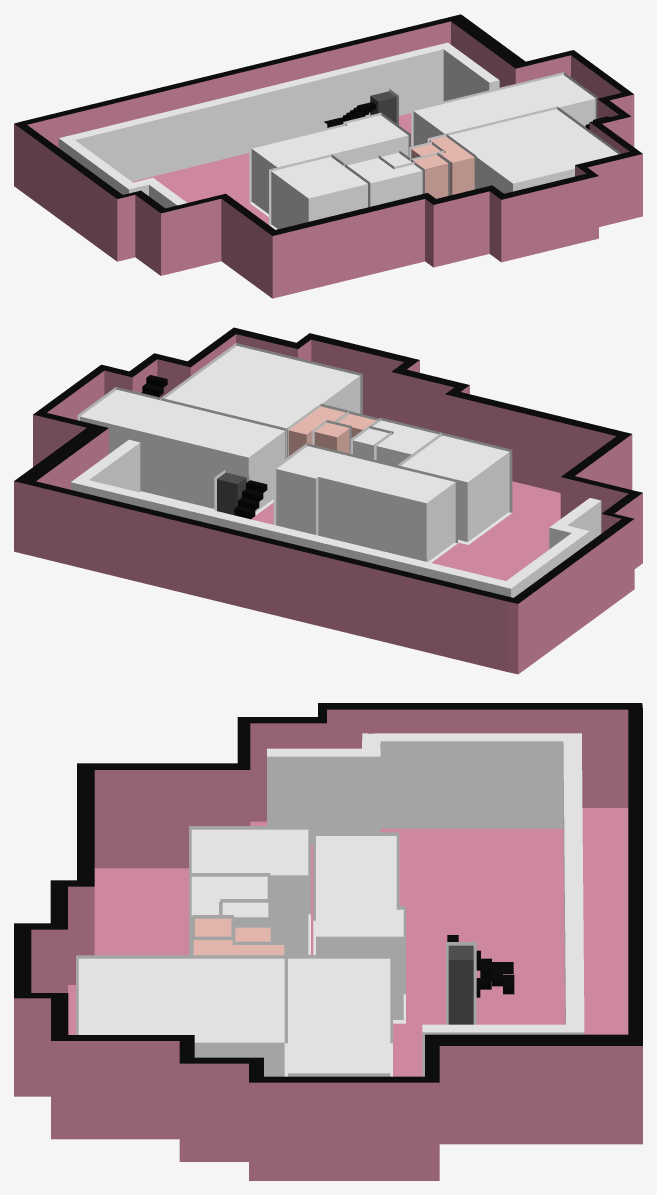
3 renders of one model, top to bottom at view 1: azimuth 30°, elevation 25°; view 2: azimuth 150°, elevation 25°; view 3: azimuth 270°, elevation 25°, orthographic. The views are drawn at different scales.
Visible parts, largest first — view 1: object, room_L_2_5, room_L_2_4, room_L_2_1, room_L_2_2, room_L_2_3, トイレ_L_2_2, トイレ_L_2_1, object_line.005, object_line.002, object_line.006, エレベーター_L_2_1 (+2 smaller); view 2: object, room_L_2_1, room_L_2_4, room_L_2_5, room_L_2_2, room_L_2_3, object_line.005, トイレ_L_2_2, object_line.002, エレベーター_L_2_1, object_line.006, トイレ_L_2_3 (+3 smaller); view 3: object, room_L_2_5, room_L_2_4, room_L_2_1, room_L_2_2, room_L_2_3, エレベーター_L_2_1, object_line.009, object_line.005, 階段_L_2_1, トイレ_L_2_2, object_line.006 (+4 smaller).
Part boxes in pixels (bbox=[...]): object: bbox=[14, 14, 642, 298]; room_L_2_5: bbox=[449, 109, 618, 193]; room_L_2_4: bbox=[413, 75, 595, 145]; room_L_2_1: bbox=[251, 115, 408, 213]; room_L_2_2: bbox=[271, 157, 367, 229]; room_L_2_3: bbox=[347, 158, 422, 206]; トイレ_L_2_2: bbox=[429, 136, 474, 195]; トイレ_L_2_1: bbox=[414, 155, 448, 198]; object_line.005: bbox=[249, 112, 410, 216]; object_line.002: bbox=[411, 72, 597, 146]; object_line.006: bbox=[269, 154, 370, 229]; エレベーター_L_2_1: bbox=[370, 91, 396, 123]; object: bbox=[14, 327, 642, 674]; room_L_2_1: bbox=[276, 446, 455, 561]; room_L_2_4: bbox=[80, 390, 285, 511]; room_L_2_5: bbox=[165, 346, 360, 428]; room_L_2_2: bbox=[401, 435, 509, 541]; room_L_2_3: bbox=[373, 420, 438, 465]; object_line.005: bbox=[273, 443, 457, 562]; トイレ_L_2_2: bbox=[288, 406, 345, 455]; object_line.002: bbox=[77, 387, 287, 515]; エレベーター_L_2_1: bbox=[217, 472, 246, 514]; object_line.006: bbox=[398, 432, 512, 544]; トイレ_L_2_3: bbox=[314, 422, 349, 453]; object: bbox=[14, 703, 642, 1180]; room_L_2_5: bbox=[78, 958, 284, 1076]; room_L_2_4: bbox=[288, 958, 390, 1076]; room_L_2_1: bbox=[316, 836, 403, 1019]; room_L_2_2: bbox=[191, 829, 308, 954]; room_L_2_3: bbox=[191, 876, 267, 936]; エレベーター_L_2_1: bbox=[448, 945, 473, 1024]; object_line.009: bbox=[76, 955, 287, 1076]; object_line.005: bbox=[313, 832, 405, 1023]; 階段_L_2_1: bbox=[447, 935, 514, 997]; トイレ_L_2_2: bbox=[193, 940, 284, 955]; object_line.006: bbox=[189, 826, 310, 954].
Bounding box in the file's own units: 1.78 × 0.2187 × 1.25.
